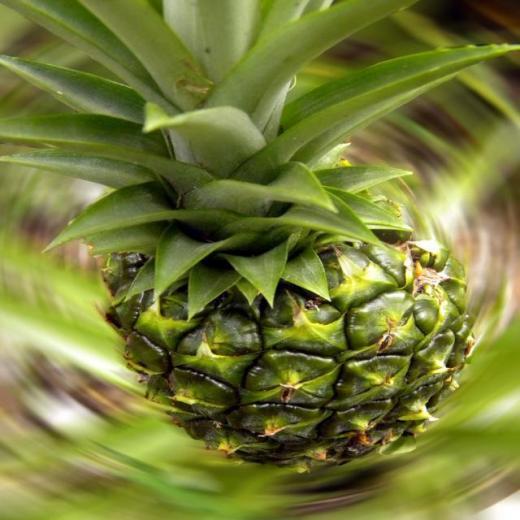Mango: (0, 0, 519, 474)
